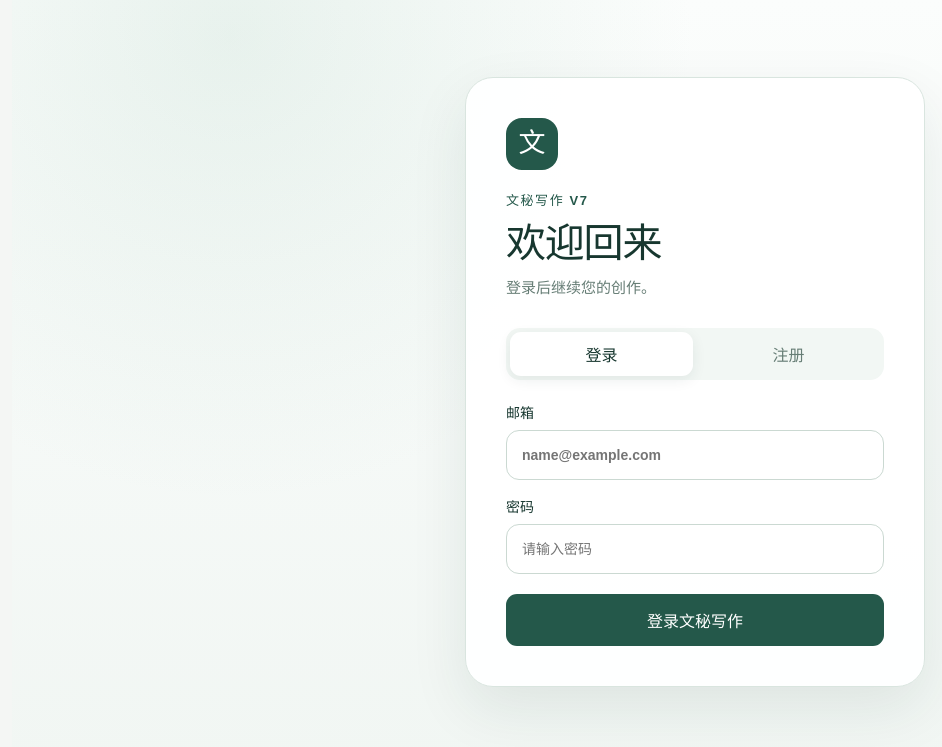
Test: V7 作者端账号门禁与个人中心 › 在 V7 内登录后继续原页面，账号 Cookie 只由后端响应处理
The image size is (942, 747).
In the field labelled "邮箱": (695, 455) [506, 430, 884, 480], type "writer@example.com"
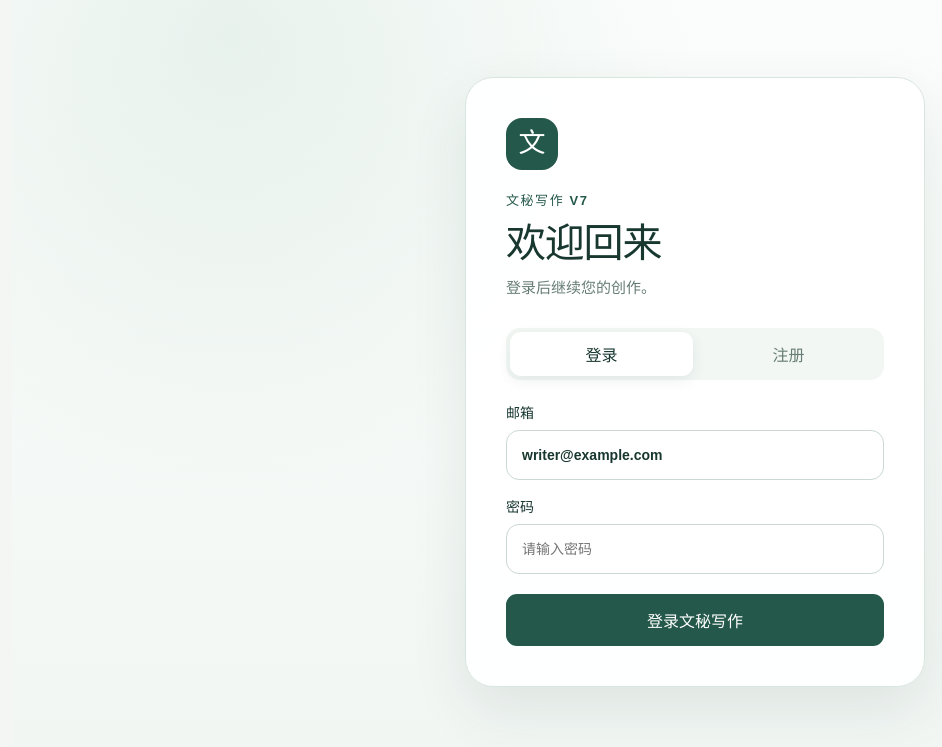
In the password field labelled "密码": (695, 549) [506, 524, 884, 574], type "strong-pass-123"
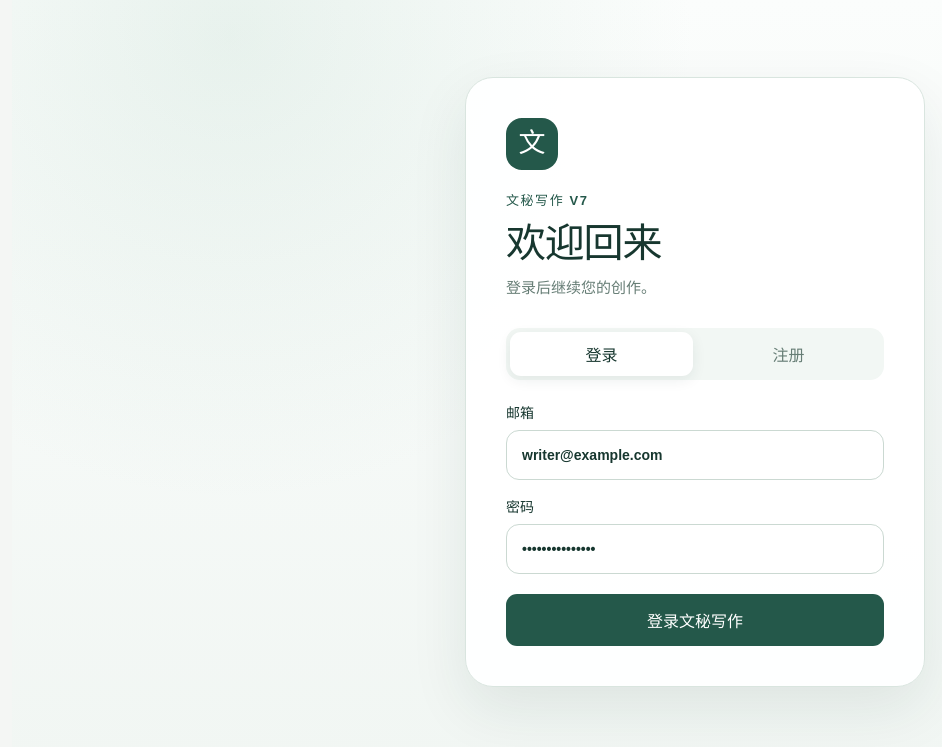
Click the button "登录文秘写作": (695, 620) [506, 594, 884, 646]
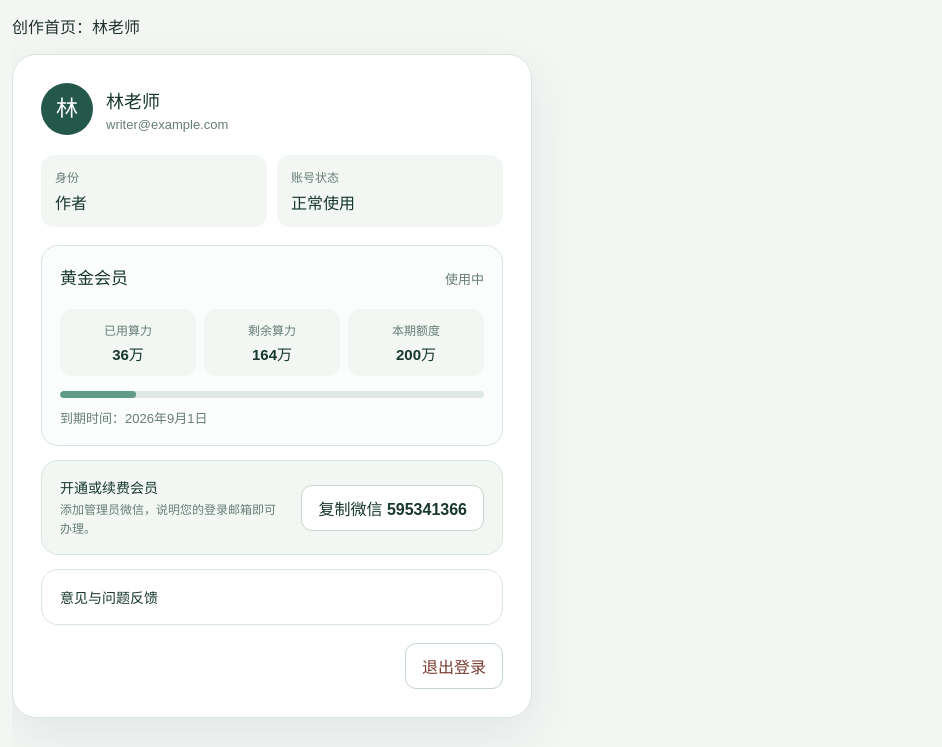
expect the text "创作首页：林老师" is shown: met, box [12, 16, 140, 38]
